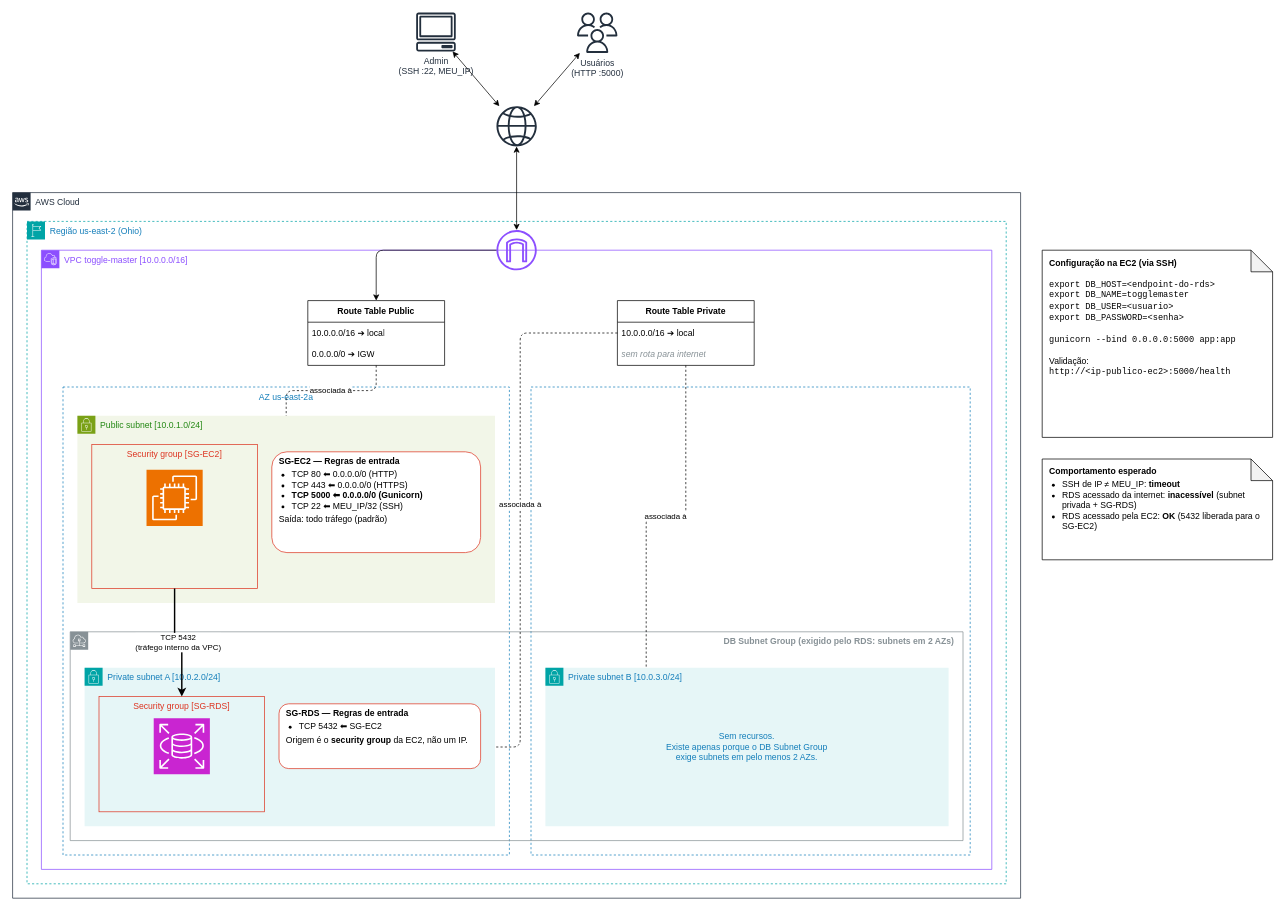
This 1285x911 diagram has some shape labels left out. Here are the shapes that lost their labels. From the top down, the centre of each, then its label:
At pixel 516 126: "Internet".
At pixel 516 250: "Internet Gateway".
At pixel 174 497: "EC2 (API Flask) Gunicorn 0.0.0.0:5000 IPv4 público".
At pixel 750 620: "AZ us-east-2b".
At pixel 181 745: "RDS PostgreSQL Single-AZ, sem acesso público".
